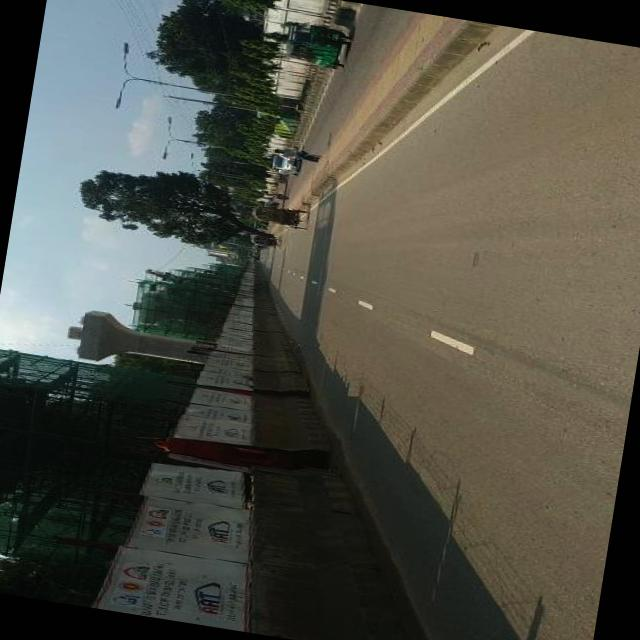car: (270, 153, 297, 174)
motorcycle: (282, 18, 352, 69), (250, 201, 308, 230), (248, 232, 279, 248), (269, 190, 286, 200)
